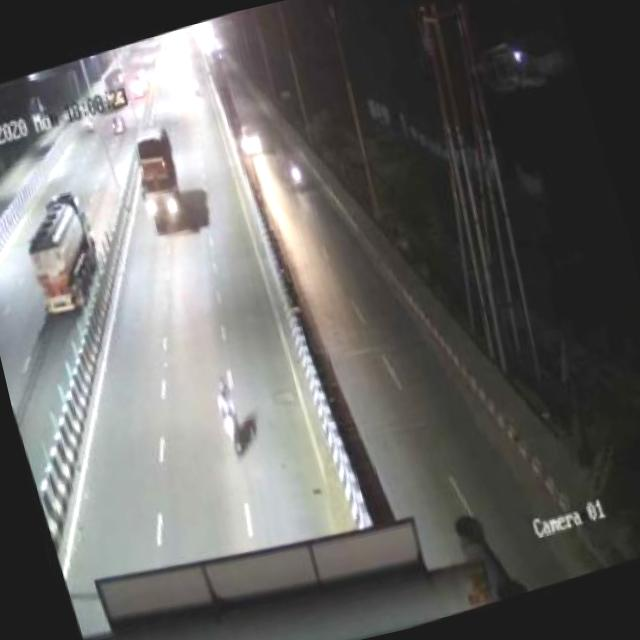car: (229, 116, 278, 167)
